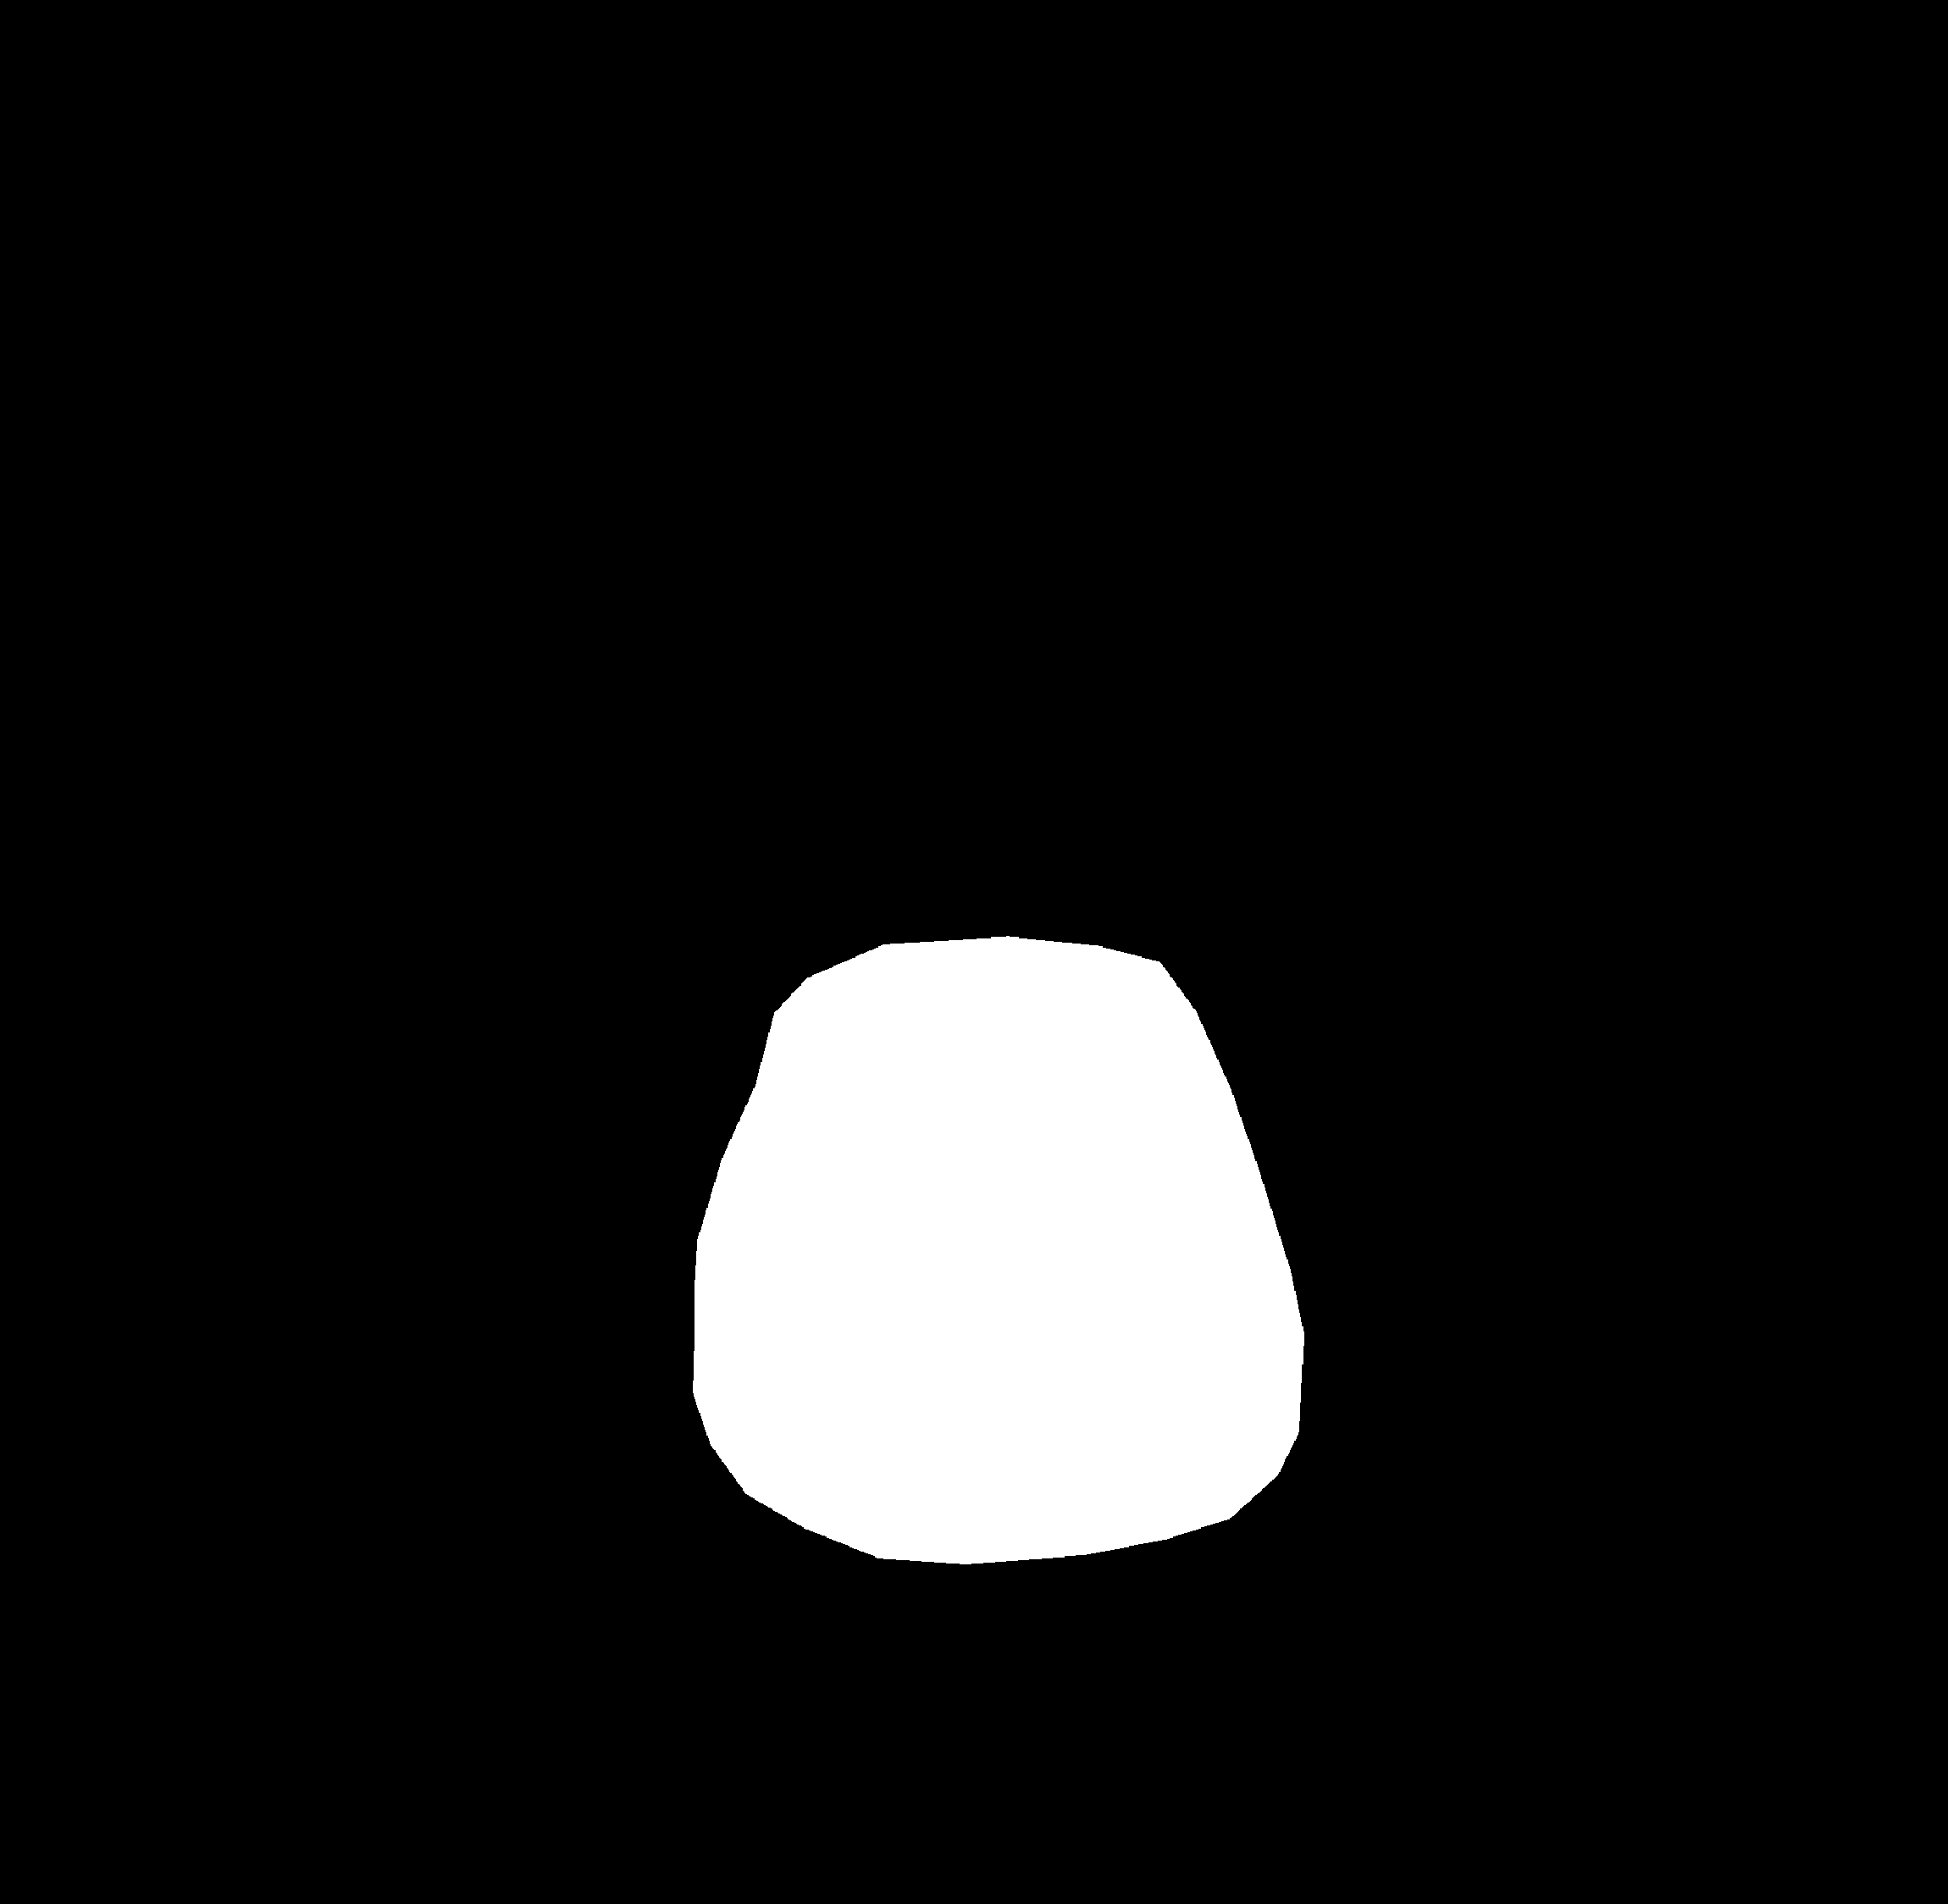heart: (689, 1039, 1301, 1595)
left_lung: (274, 218, 868, 1442)
right_lung: (1024, 176, 1653, 1798)
